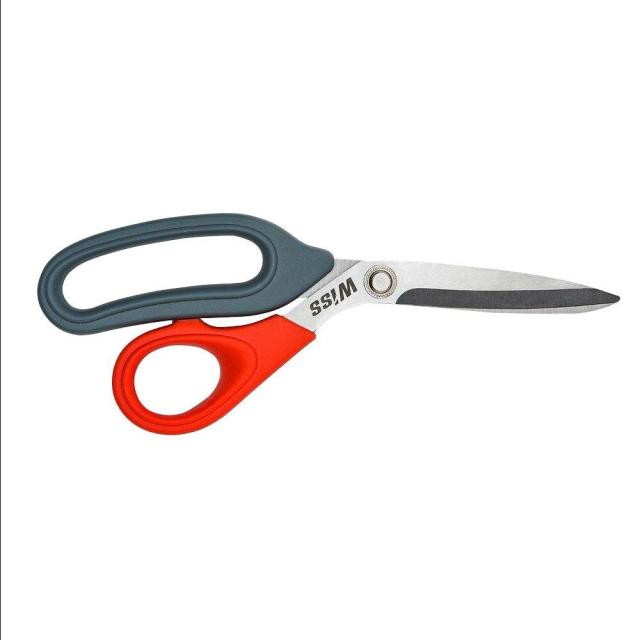scissor: (31, 195, 624, 448)
